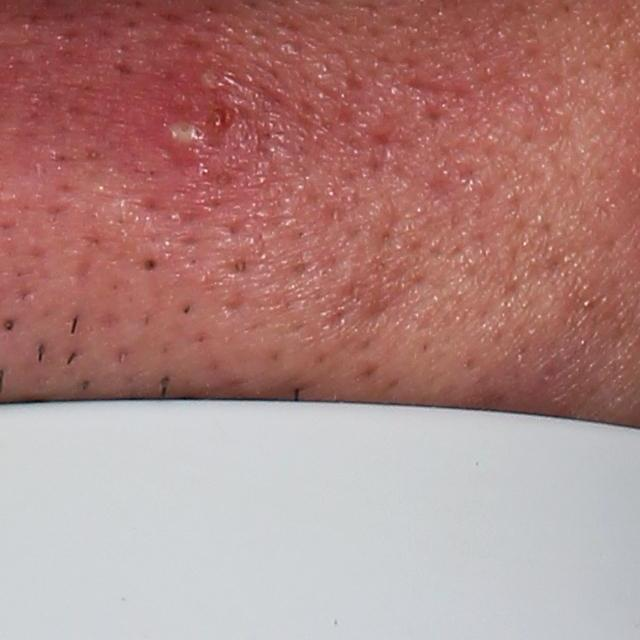pustule: (156, 107, 219, 168), (197, 62, 225, 94)
